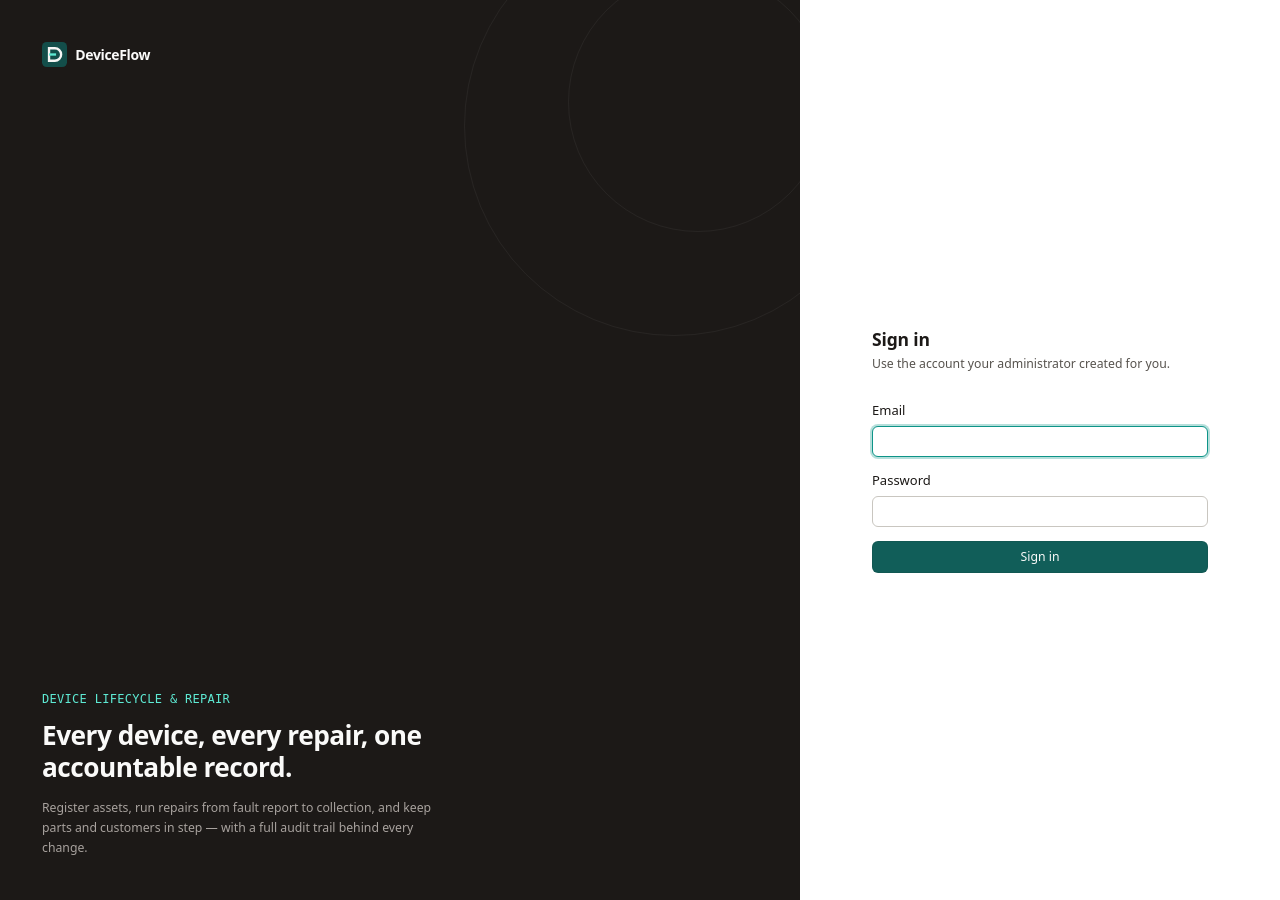
LoginPage › validates fields before calling the API
The width and height of the screenshot is (1280, 900).
Step 1. Click the button "Sign in" → [1040, 557], box [872, 541, 1208, 573]
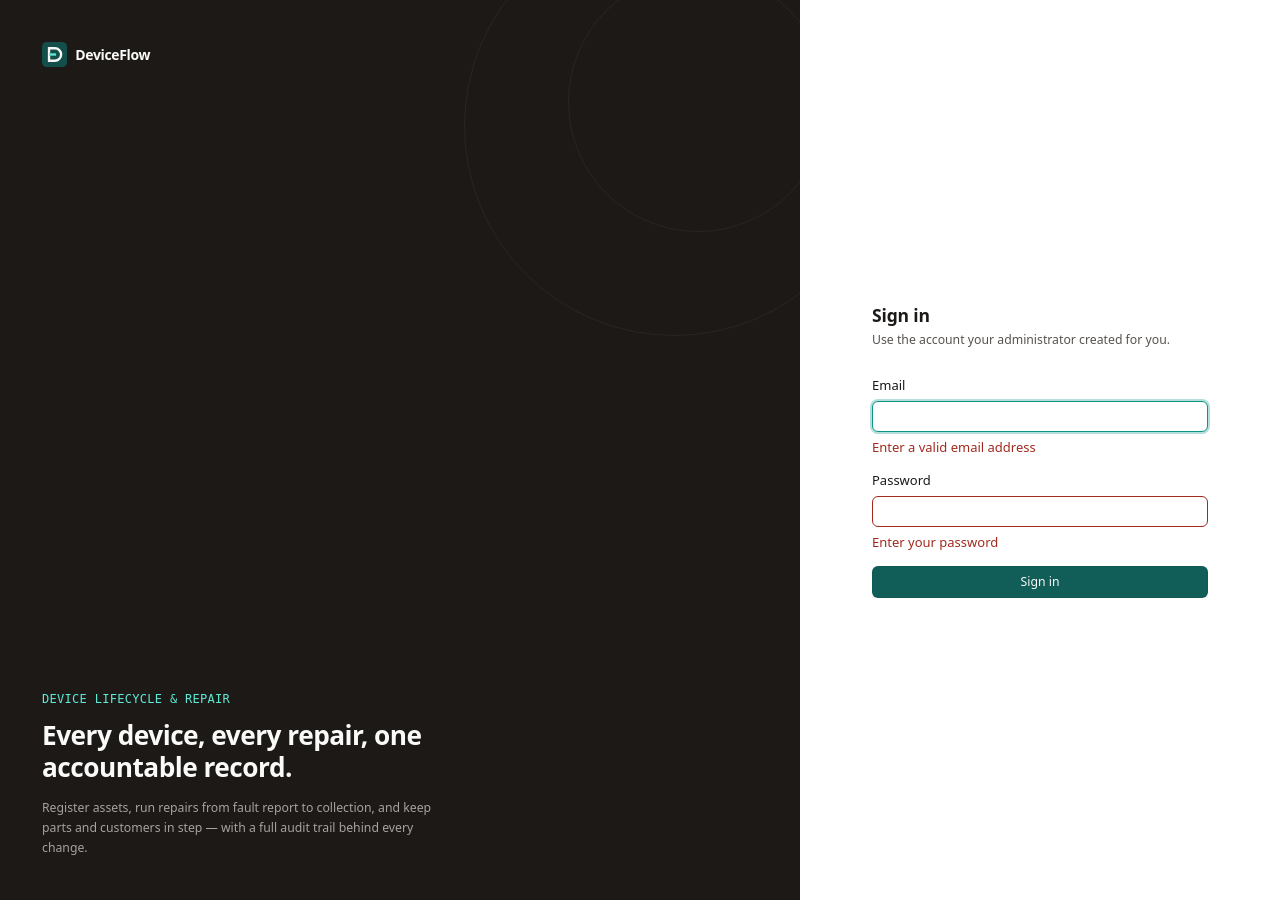
Result: the text "Enter a valid email address" is shown at [872, 438, 1036, 456]
Result: the text "Enter your password" is shown at [872, 532, 998, 550]
